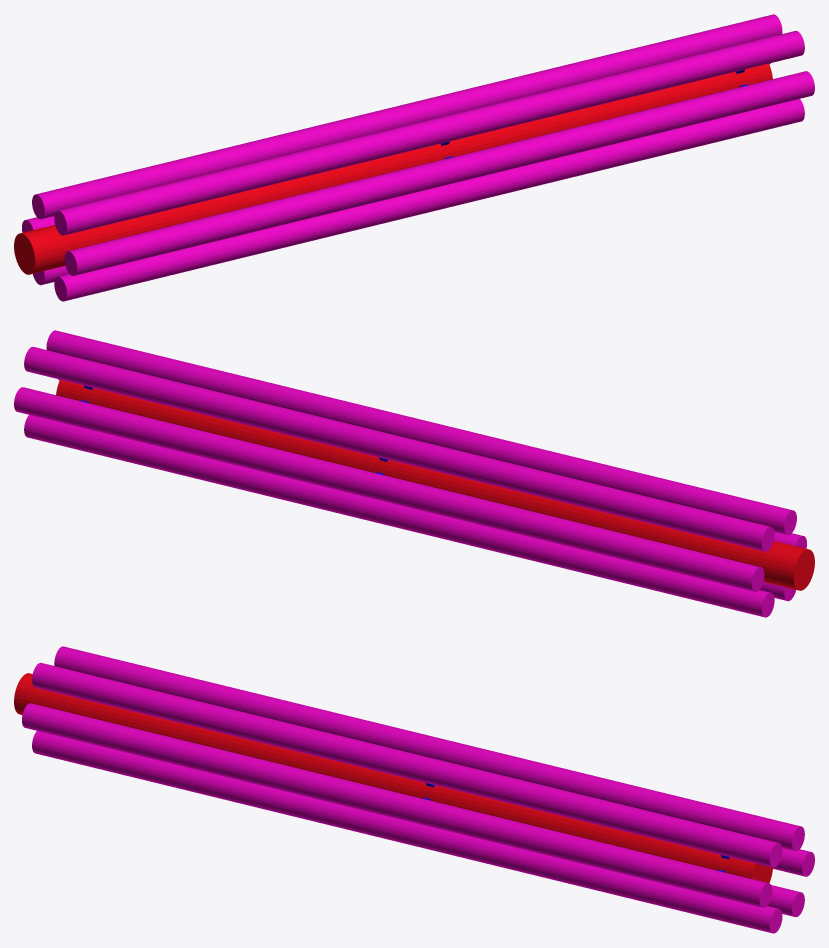
File: Minigun.fbx
3 views of the same model, one above another, from view 1: azimuth 30°, elevation 25°; view 2: azimuth 150°, elevation 25°; view 3: azimuth 330°, elevation 25° (orthographic).
Visible parts, largest first — view 1: Minigun; view 2: Minigun; view 3: Minigun.
Boxes of the visible parts, x1=… form: Minigun: x1=14, y1=14, x2=814, y2=301; Minigun: x1=14, y1=330, x2=814, y2=617; Minigun: x1=14, y1=646, x2=814, y2=933.
Bounding box in the file's own units: 207 × 23.05 × 26.
